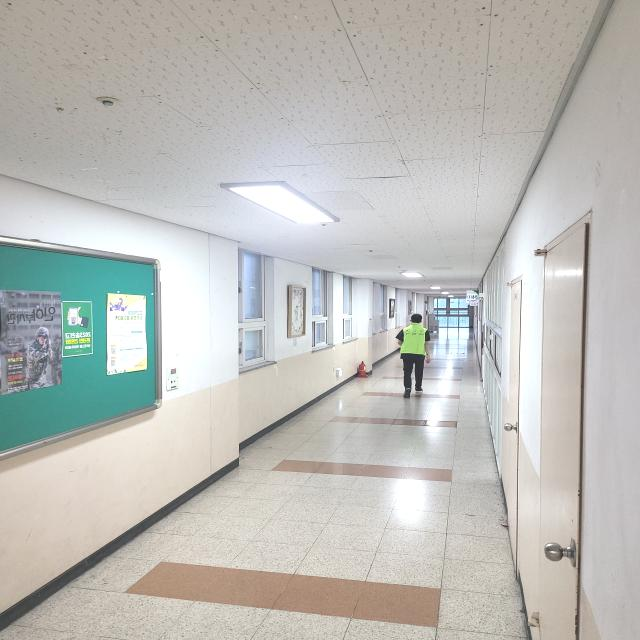weston_spy: (394, 317, 432, 366)
